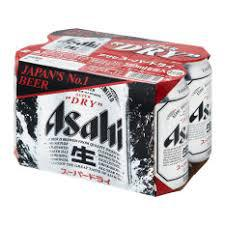beer: (15, 28, 214, 197)
